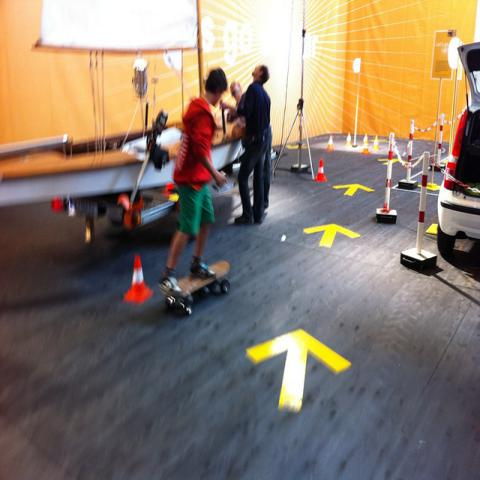car: (436, 40, 479, 257)
